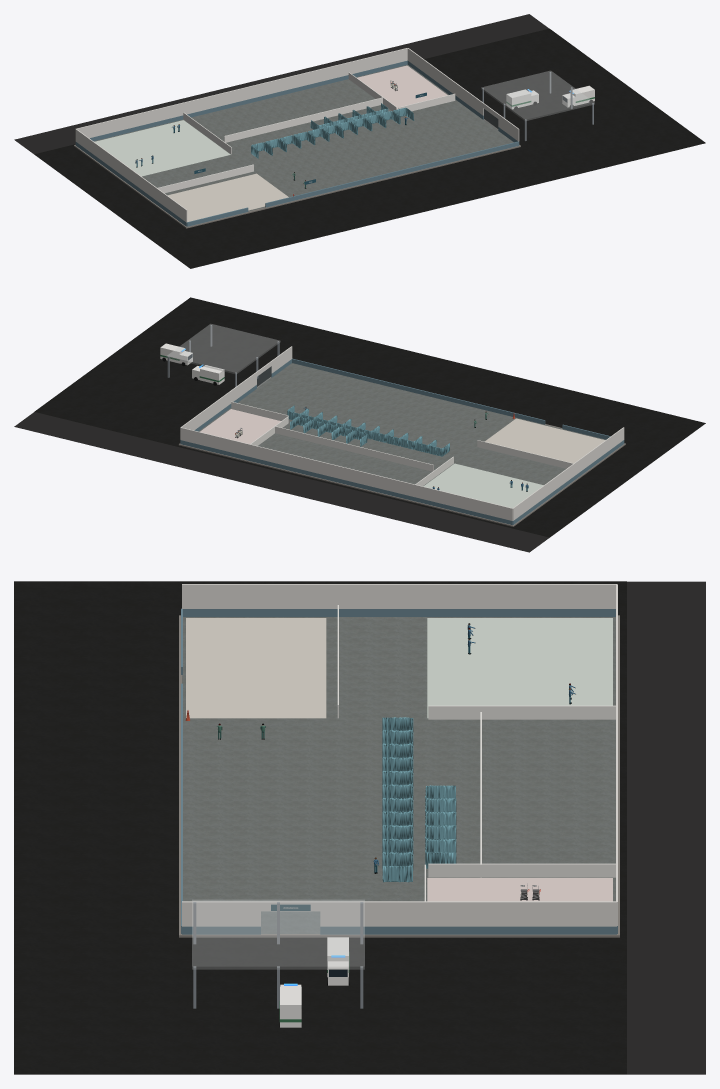
Rendered from ed-table.glb.
3 renders of one model, top to bottom at view 1: azimuth 30°, elevation 25°; view 2: azimuth 150°, elevation 25°; view 3: azimuth 270°, elevation 25°, orthographic. The views are drawn at different scales.
Visible parts, largest first — view 1: MeshStandardMaterial 2, MeshStandardMaterial 3, MeshStandardMaterial 8, MeshStandardMaterial 1 (×2), MeshStandardMaterial 6, MeshStandardMaterial 9, MeshStandardMaterial 17, MeshStandardMaterial 11, MeshStandardMaterial 5, m_opaque__fabric__cotton_blue_o01 18, MeshStandardMaterial 7, MeshStandardMaterial 4 (+1 smaller); view 2: MeshStandardMaterial 2, MeshStandardMaterial 3, MeshStandardMaterial 1 (×2), MeshStandardMaterial 8, MeshStandardMaterial 9, MeshStandardMaterial 17, MeshStandardMaterial 11, MeshStandardMaterial 5, MeshStandardMaterial 6, m_opaque__fabric__cotton_blue_o01 18, MeshStandardMaterial 7, MeshStandardMaterial 4 (+1 smaller); view 3: MeshStandardMaterial 2, MeshStandardMaterial 3, MeshStandardMaterial 1 (×2), MeshStandardMaterial 8, MeshStandardMaterial 6, MeshStandardMaterial 5, MeshStandardMaterial 17, m_opaque__fabric__cotton_blue_o01 18, MeshStandardMaterial 9, MeshStandardMaterial 11, MeshStandardMaterial 7, MeshStandardMaterial 4 (+3 smaller).
Boxes of the visible parts, bbox=[...] form: MeshStandardMaterial 2: bbox=[34, 28, 705, 268]; MeshStandardMaterial 3: bbox=[94, 64, 513, 211]; MeshStandardMaterial 8: bbox=[75, 48, 519, 222]; MeshStandardMaterial 1 (×2): bbox=[14, 14, 705, 268]; MeshStandardMaterial 6: bbox=[94, 120, 230, 176]; MeshStandardMaterial 9: bbox=[75, 60, 519, 226]; MeshStandardMaterial 17: bbox=[481, 71, 594, 120]; MeshStandardMaterial 11: bbox=[157, 72, 455, 193]; MeshStandardMaterial 5: bbox=[167, 173, 288, 221]; m_opaque__fabric__cotton_blue_o01 18: bbox=[251, 103, 414, 158]; MeshStandardMaterial 7: bbox=[357, 65, 447, 109]; MeshStandardMaterial 4: bbox=[74, 119, 520, 228]; MeshStandardMaterial 2: bbox=[34, 297, 705, 537]; MeshStandardMaterial 3: bbox=[198, 363, 605, 486]; MeshStandardMaterial 1 (×2): bbox=[14, 343, 705, 552]; MeshStandardMaterial 8: bbox=[180, 346, 624, 520]; MeshStandardMaterial 9: bbox=[180, 358, 624, 524]; MeshStandardMaterial 17: bbox=[167, 324, 280, 374]; MeshStandardMaterial 11: bbox=[231, 401, 573, 486]; MeshStandardMaterial 5: bbox=[485, 418, 605, 463]; MeshStandardMaterial 6: bbox=[423, 463, 543, 508]; m_opaque__fabric__cotton_blue_o01 18: bbox=[287, 405, 449, 456]; MeshStandardMaterial 7: bbox=[200, 409, 280, 443]; MeshStandardMaterial 4: bbox=[178, 377, 625, 526]; MeshStandardMaterial 2: bbox=[14, 581, 626, 1074]; MeshStandardMaterial 3: bbox=[182, 617, 615, 933]; MeshStandardMaterial 1 (×2): bbox=[14, 581, 705, 1074]; MeshStandardMaterial 8: bbox=[182, 584, 617, 926]; MeshStandardMaterial 6: bbox=[427, 618, 612, 718]; MeshStandardMaterial 5: bbox=[186, 618, 326, 718]; MeshStandardMaterial 17: bbox=[192, 900, 364, 969]; m_opaque__fabric__cotton_blue_o01 18: bbox=[382, 717, 456, 882]; MeshStandardMaterial 9: bbox=[181, 608, 617, 934]; MeshStandardMaterial 11: bbox=[337, 605, 615, 901]; MeshStandardMaterial 7: bbox=[427, 878, 612, 901]; MeshStandardMaterial 4: bbox=[179, 615, 619, 937].
Bounding box in the file's own units: 0.7375 × 0.0317 × 0.4375.
141 materials, 18 textured.
